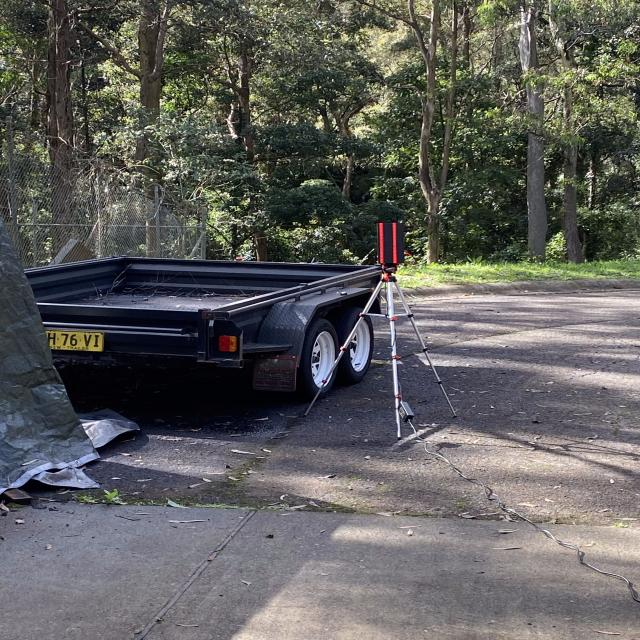matrix: (376, 220, 406, 264)
